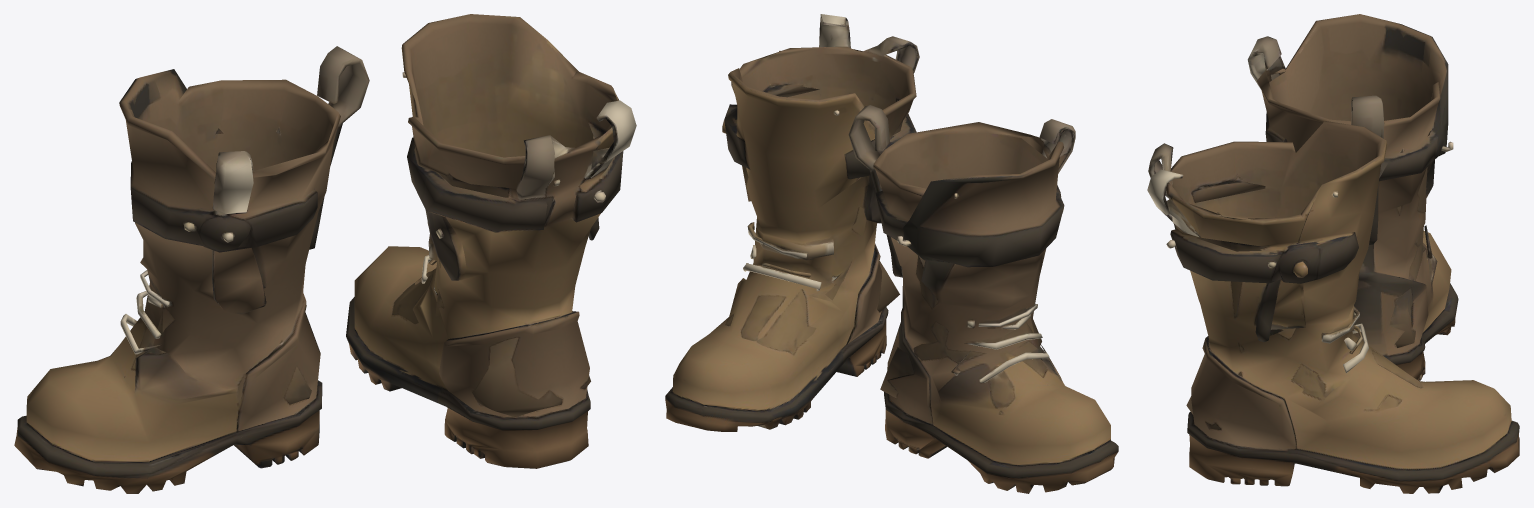
File: boots.glb
3 views of the same model, side by side, from view 1: azimuth 30°, elevation 25°; view 2: azimuth 150°, elevation 25°; view 3: azimuth 270°, elevation 25° (orthographic). The views are drawn at different scales.
Parts seen in each view (by area): view 1: base_model_path; view 2: base_model_path; view 3: base_model_path.
Boxes of the visible parts, x1=… form: base_model_path: x1=14, y1=14, x2=636, y2=493; base_model_path: x1=665, y1=14, x2=1118, y2=493; base_model_path: x1=1147, y1=14, x2=1519, y2=493.
Bounding box in the file's own units: 1 × 0.683 × 0.7261.
1 material, 1 textured.
